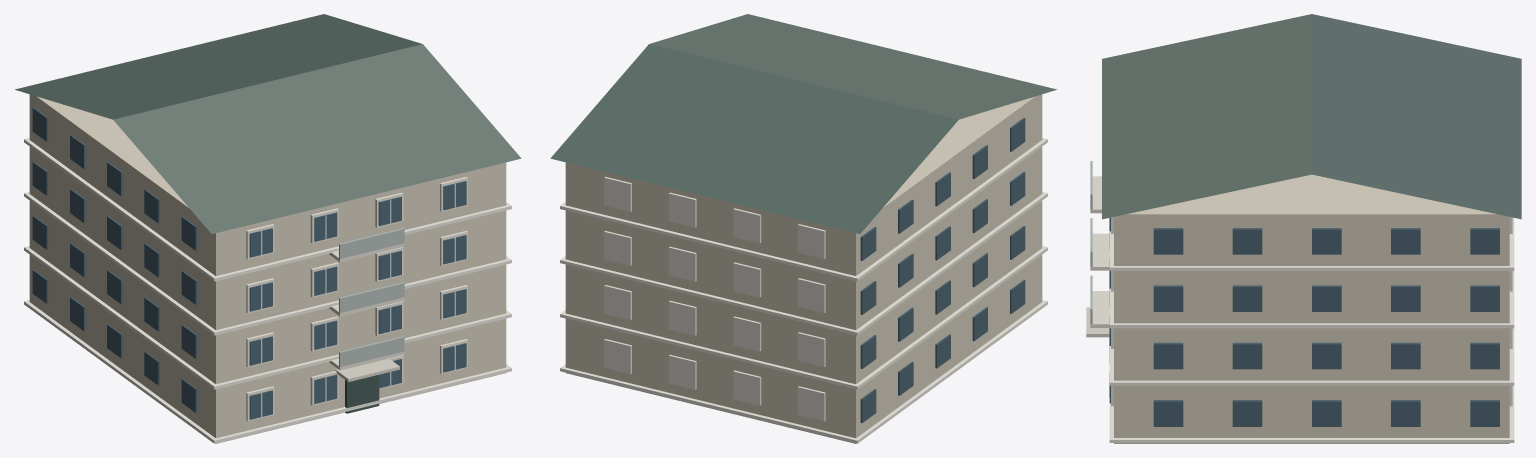
The picture shows the model from 3 angles, left to right: view 1: azimuth 30°, elevation 25°; view 2: azimuth 150°, elevation 25°; view 3: azimuth 270°, elevation 25°; orthographic projection. The views are drawn at different scales.
Size of the model in its own units: 19.2 by 15.3 by 22.
